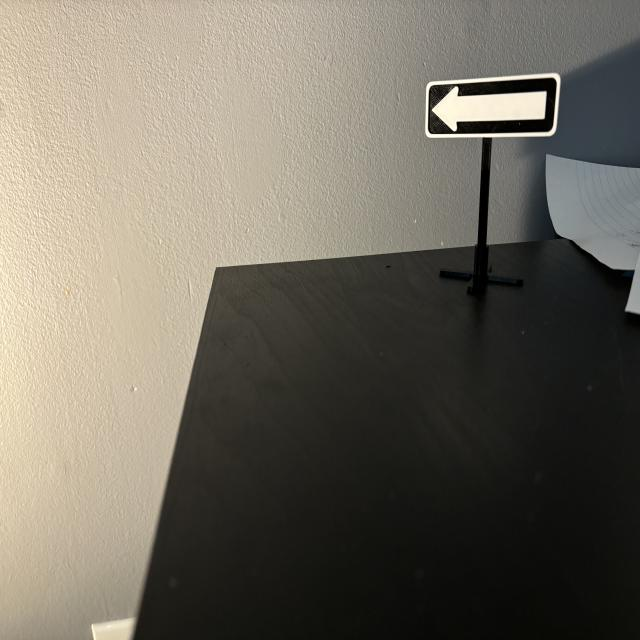sign_oneway_left: (427, 75, 561, 139)
